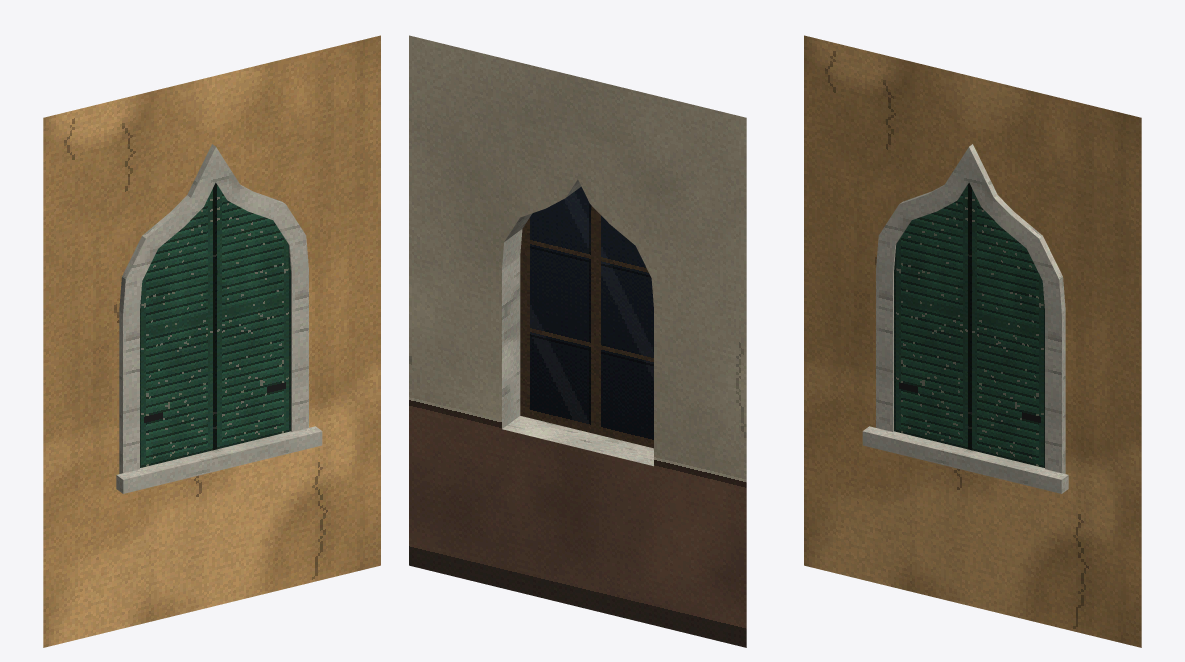
The model's file is ext_window_gothic_shut.gltf.
3 renders of one model, left to right at view 1: azimuth 30°, elevation 25°; view 2: azimuth 150°, elevation 25°; view 3: azimuth 330°, elevation 25°, orthographic.
Visible parts, largest first — view 1: ext_window_gothic_shut; view 2: ext_window_gothic_shut; view 3: ext_window_gothic_shut.
Boxes of the visible parts, <box> form: ext_window_gothic_shut: <box>43,35,380,647</box>; ext_window_gothic_shut: <box>409,35,746,647</box>; ext_window_gothic_shut: <box>804,35,1141,647</box>.
Size of what is drawn, in the model's own units: 2 by 3 by 0.41.
Materials: 5 (5 with a texture image).
